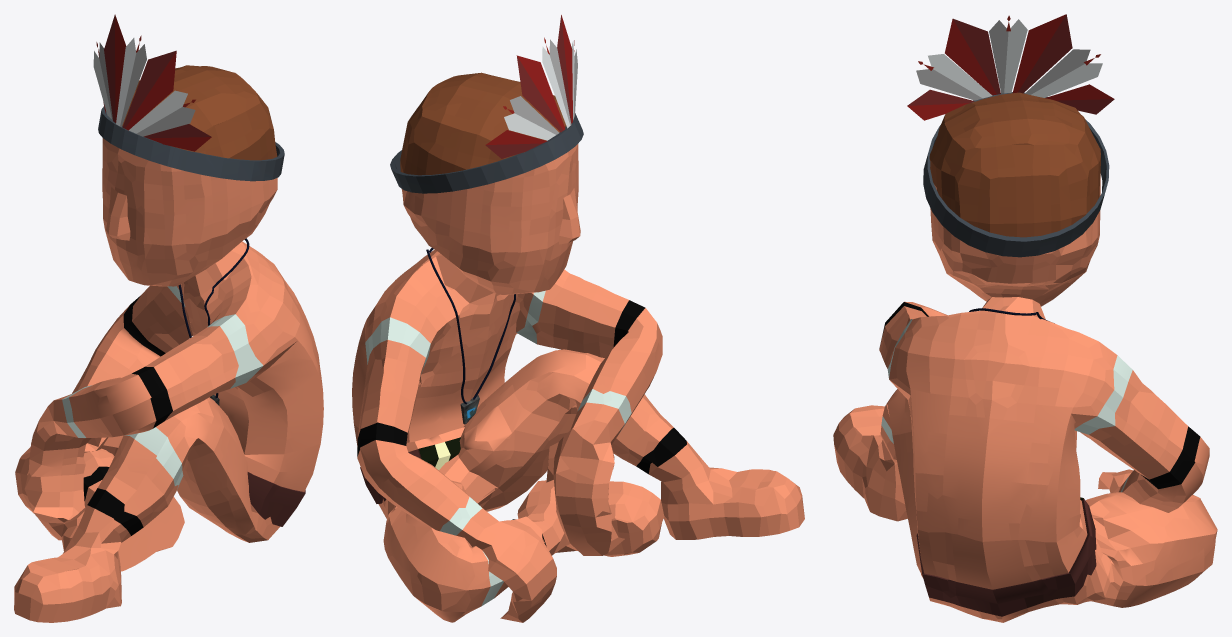
File: NPC_Indian.obj
The picture shows the model from 3 angles, left to right: view 1: azimuth 30°, elevation 25°; view 2: azimuth 150°, elevation 25°; view 3: azimuth 270°, elevation 25°; orthographic projection. The views are drawn at different scales.
Parts seen in each view (by area): view 1: Humanoide_Base_Humanoide_Base_Base_NPC__characterMedium_a403509_, Cinta_pelo_Cylinder.000_Cinta_pelo_Cylinder.000_IndianCrown_Cint, Plane_Plane.003_Plane_Plane.003_IndianCrown_Plane_Plane.003_Plan, Plane.003_Plane.006_Plane.003_Plane.006_IndianCrown_Plane.003_Pl, Plane.002_Plane.007_Plane.002_Plane.007_IndianCrown_Plane.002_Pl, Plane.001_Plane.004_Plane.001_Plane.004_IndianCrown_Plane.001_Pl, Plane.005_Plane.009_Plane.005_Plane.009_IndianCrown_Plane.005_Pl, nariz_nariz_nariz_nariz_1.001_nariz_nariz_nariz_nariz_1_24d8fa1_, Plane.004_Plane.008_Plane.004_Plane.008_IndianCrown_Plane.004_Pl, Cuerda_colgante_BezierCurve.001_Cuerda_colgante_BezierC_2396164_; view 2: Humanoide_Base_Humanoide_Base_Base_NPC__characterMedium_a403509_, Cinta_pelo_Cylinder.000_Cinta_pelo_Cylinder.000_IndianCrown_Cint, Plane.002_Plane.007_Plane.002_Plane.007_IndianCrown_Plane.002_Pl, Plane.004_Plane.008_Plane.004_Plane.008_IndianCrown_Plane.004_Pl, Plane.001_Plane.004_Plane.001_Plane.004_IndianCrown_Plane.001_Pl, Plane.006_Plane.010_Plane.006_Plane.010_IndianCrown_Plane.006_Pl, Plane_Plane.003_Plane_Plane.003_IndianCrown_Plane_Plane.003_Plan, nariz_nariz_nariz_nariz_1.001_nariz_nariz_nariz_nariz_1_24d8fa1_, Cuerda_colgante_BezierCurve.001_Cuerda_colgante_BezierC_2396164_; view 3: Humanoide_Base_Humanoide_Base_Base_NPC__characterMedium_a403509_, Cinta_pelo_Cylinder.000_Cinta_pelo_Cylinder.000_IndianCrown_Cint, Plane.002_Plane.007_Plane.002_Plane.007_IndianCrown_Plane.002_Pl, Plane_Plane.003_Plane_Plane.003_IndianCrown_Plane_Plane.003_Plan, Plane.004_Plane.008_Plane.004_Plane.008_IndianCrown_Plane.004_Pl, Plane.001_Plane.004_Plane.001_Plane.004_IndianCrown_Plane.001_Pl, Plane.003_Plane.006_Plane.003_Plane.006_IndianCrown_Plane.003_Pl, Plane.005_Plane.009_Plane.005_Plane.009_IndianCrown_Plane.005_Pl, Plane.006_Plane.010_Plane.006_Plane.010_IndianCrown_Plane.006_Pl.
Boxes of the visible parts, left/top/right/bottom form: Humanoide_Base_Humanoide_Base_Base_NPC__characterMedium_a403509_: left=14, top=65, right=323, bottom=622; Cinta_pelo_Cylinder.000_Cinta_pelo_Cylinder.000_IndianCrown_Cint: left=98, top=106, right=284, bottom=181; Plane_Plane.003_Plane_Plane.003_IndianCrown_Plane_Plane.003_Plan: left=122, top=50, right=176, bottom=130; Plane.003_Plane.006_Plane.003_Plane.006_IndianCrown_Plane.003_Pl: left=129, top=90, right=195, bottom=136; Plane.002_Plane.007_Plane.002_Plane.007_IndianCrown_Plane.002_Pl: left=104, top=14, right=126, bottom=122; Plane.001_Plane.004_Plane.001_Plane.004_IndianCrown_Plane.001_Pl: left=116, top=35, right=146, bottom=127; Plane.005_Plane.009_Plane.005_Plane.009_IndianCrown_Plane.005_Pl: left=144, top=124, right=211, bottom=151; nariz_nariz_nariz_nariz_1.001_nariz_nariz_nariz_nariz_1_24d8fa1_: left=106, top=187, right=130, bottom=240; Plane.004_Plane.008_Plane.004_Plane.008_IndianCrown_Plane.004_Pl: left=93, top=42, right=112, bottom=119; Cuerda_colgante_BezierCurve.001_Cuerda_colgante_BezierC_2396164_: left=178, top=238, right=249, bottom=398; Humanoide_Base_Humanoide_Base_Base_NPC__characterMedium_a403509_: left=352, top=72, right=804, bottom=622; Cinta_pelo_Cylinder.000_Cinta_pelo_Cylinder.000_IndianCrown_Cint: left=390, top=113, right=583, bottom=193; Plane.002_Plane.007_Plane.002_Plane.007_IndianCrown_Plane.002_Pl: left=516, top=55, right=565, bottom=132; Plane.004_Plane.008_Plane.004_Plane.008_IndianCrown_Plane.004_Pl: left=503, top=96, right=559, bottom=140; Plane.001_Plane.004_Plane.001_Plane.004_IndianCrown_Plane.001_Pl: left=542, top=37, right=571, bottom=128; Plane.006_Plane.010_Plane.006_Plane.010_IndianCrown_Plane.006_Pl: left=485, top=130, right=547, bottom=158; Plane_Plane.003_Plane_Plane.003_IndianCrown_Plane_Plane.003_Plan: left=557, top=15, right=572, bottom=123; nariz_nariz_nariz_nariz_1.001_nariz_nariz_nariz_nariz_1_24d8fa1_: left=559, top=188, right=580, bottom=244; Cuerda_colgante_BezierCurve.001_Cuerda_colgante_BezierC_2396164_: left=426, top=248, right=515, bottom=404; Humanoide_Base_Humanoide_Base_Base_NPC__characterMedium_a403509_: left=833, top=92, right=1217, bottom=622; Cinta_pelo_Cylinder.000_Cinta_pelo_Cylinder.000_IndianCrown_Cint: left=923, top=92, right=1109, bottom=257; Plane.002_Plane.007_Plane.002_Plane.007_IndianCrown_Plane.002_Pl: left=1012, top=14, right=1072, bottom=93; Plane_Plane.003_Plane_Plane.003_IndianCrown_Plane_Plane.003_Plan: left=945, top=18, right=1000, bottom=95; Plane.004_Plane.008_Plane.004_Plane.008_IndianCrown_Plane.004_Pl: left=1025, top=49, right=1102, bottom=97; Plane.001_Plane.004_Plane.001_Plane.004_IndianCrown_Plane.001_Pl: left=989, top=15, right=1027, bottom=93; Plane.003_Plane.006_Plane.003_Plane.006_IndianCrown_Plane.003_Pl: left=916, top=54, right=992, bottom=100; Plane.005_Plane.009_Plane.005_Plane.009_IndianCrown_Plane.005_Pl: left=907, top=89, right=974, bottom=120; Plane.006_Plane.010_Plane.006_Plane.010_IndianCrown_Plane.006_Pl: left=1045, top=84, right=1114, bottom=114.
Bounding box in the file's own units: 18.17 × 25.89 × 15.69.
